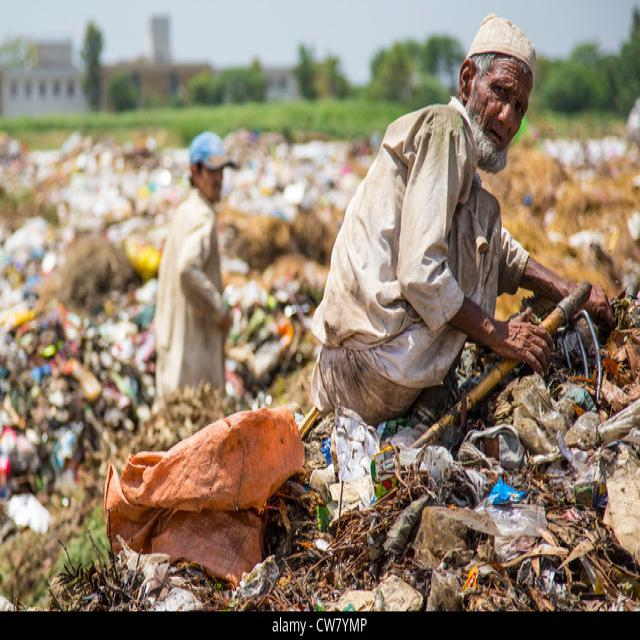plastic: (485, 504, 547, 544)
trash: (117, 435, 376, 590), (10, 156, 125, 427), (239, 150, 354, 335), (547, 369, 627, 507)
